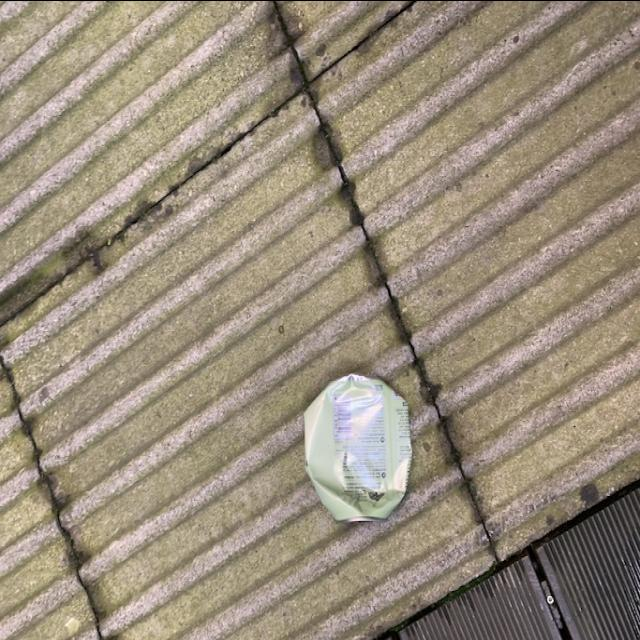litter: (297, 365, 414, 536)
